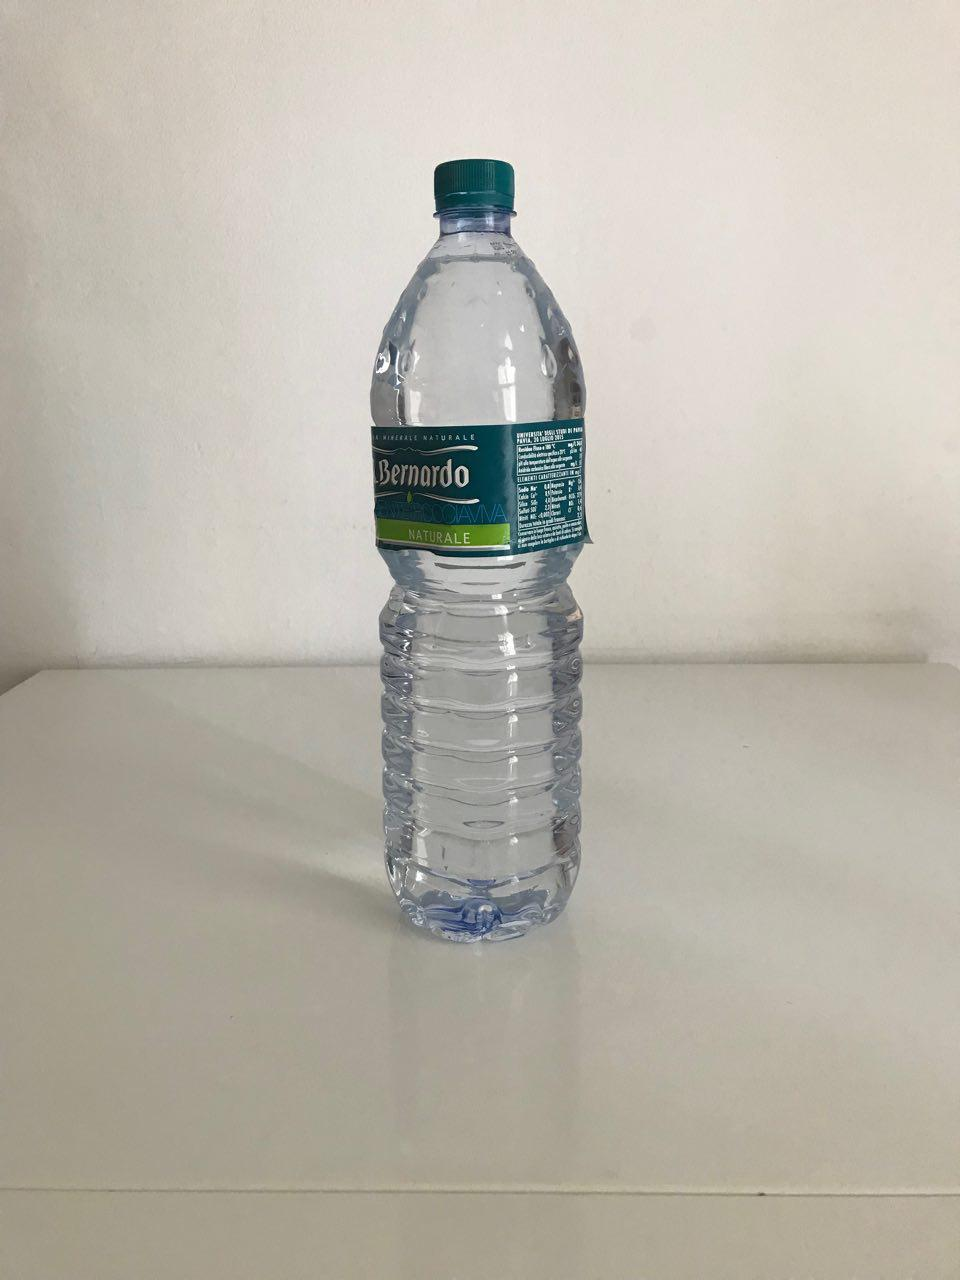san_bernardo: (367, 157, 592, 948)
